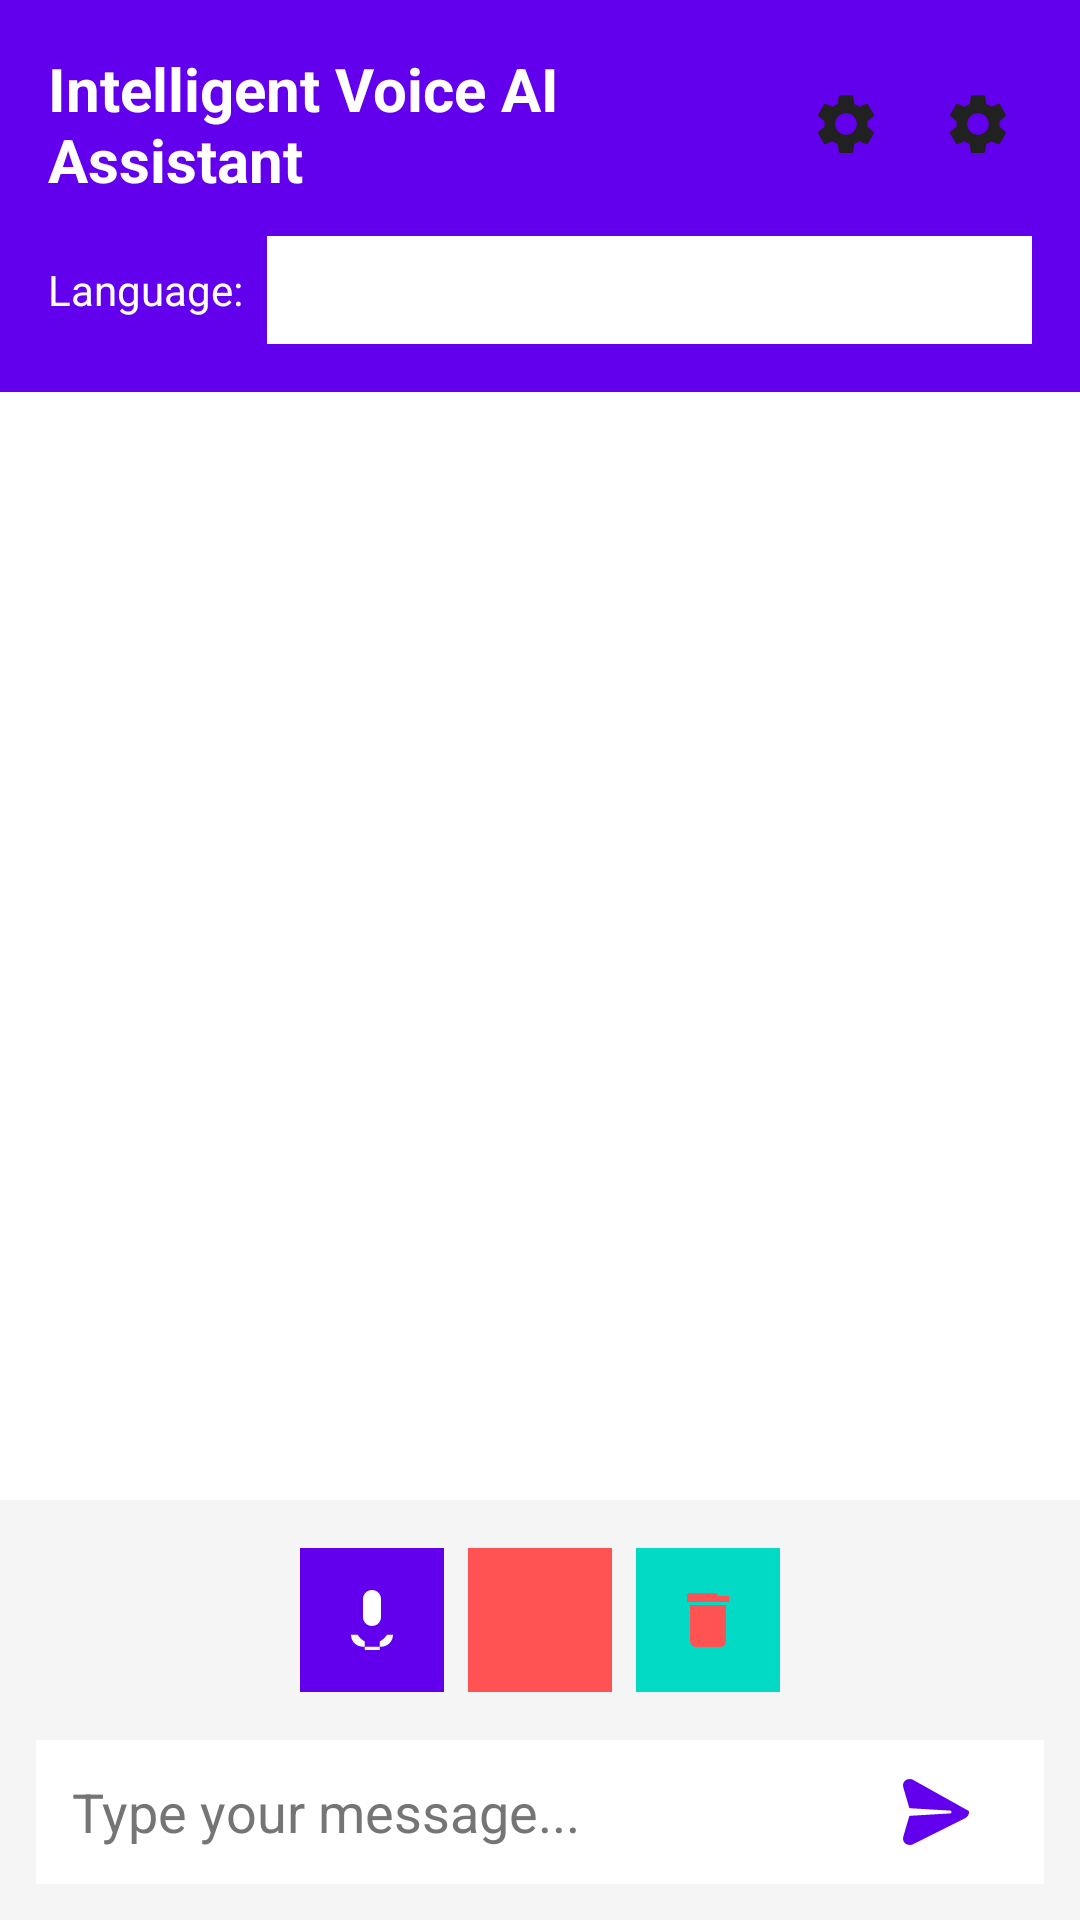

Icons on this 1080px x 1920px Android screen, each with its box as (x1, y1, x2, y2):
Clear Chat: (636, 1548, 780, 1692)
Microphone: (300, 1548, 444, 1692)
Send: (903, 1779, 969, 1845)
Settings: (818, 95, 874, 153)
